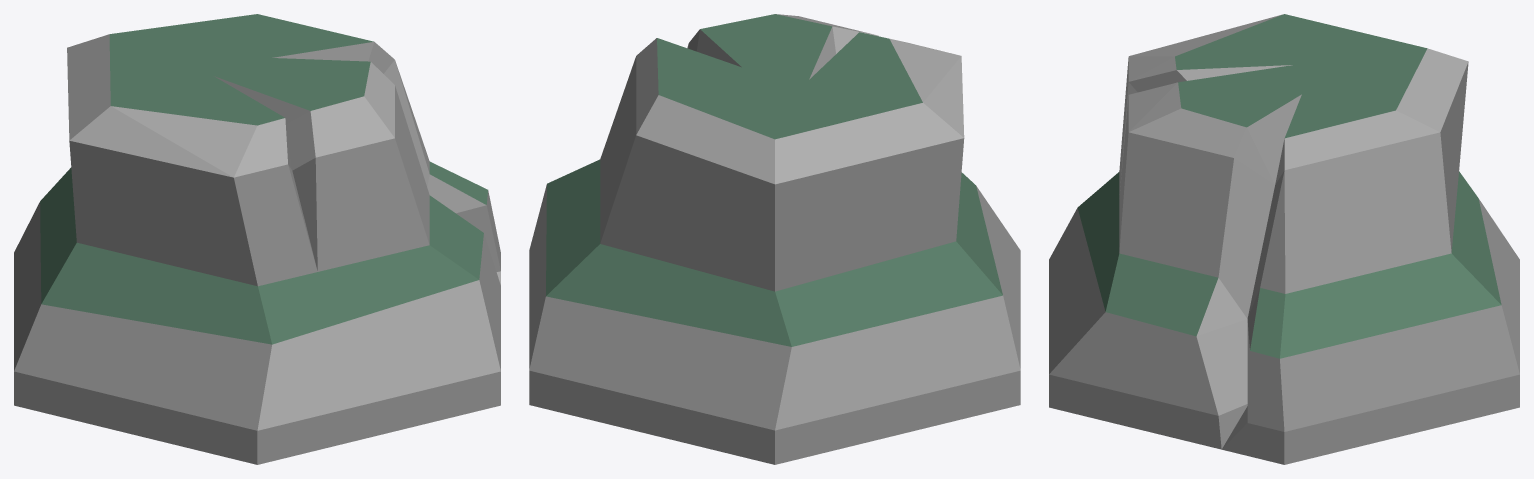
The model's file is Hex10.fbx.
The picture shows the model from 3 angles, left to right: view 1: azimuth 30°, elevation 25°; view 2: azimuth 150°, elevation 25°; view 3: azimuth 270°, elevation 25°; orthographic projection. The views are drawn at different scales.
Visible parts, largest first — view 1: Hex010; view 2: Hex010; view 3: Hex010.
Part boxes in pixels (box(x1,y1,x2,y2)): Hex010: box(14, 14, 500, 464); Hex010: box(529, 14, 1020, 464); Hex010: box(1049, 14, 1519, 464).
Size of the model in its own units: 1.67 by 0.9033 by 1.44.
